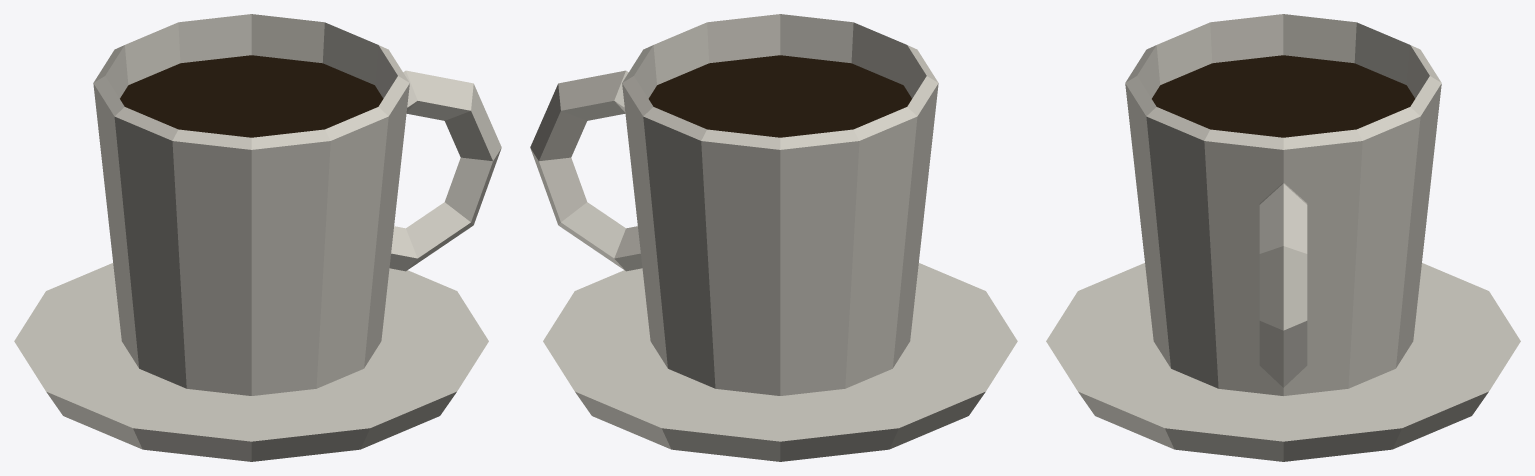
The model's file is koffiekop.glb.
The picture shows the model from 3 angles, left to right: view 1: azimuth 30°, elevation 25°; view 2: azimuth 150°, elevation 25°; view 3: azimuth 270°, elevation 25°; orthographic projection.
Parts seen in each view (by area): view 1: Cup; view 2: Cup; view 3: Cup.
Part boxes in pixels (x1,y1,x2,y2): Cup: [14, 14, 501, 461]; Cup: [530, 14, 1017, 461]; Cup: [1046, 14, 1520, 461].
Size of the model in its own units: 0.133 by 0.082 by 0.12.
